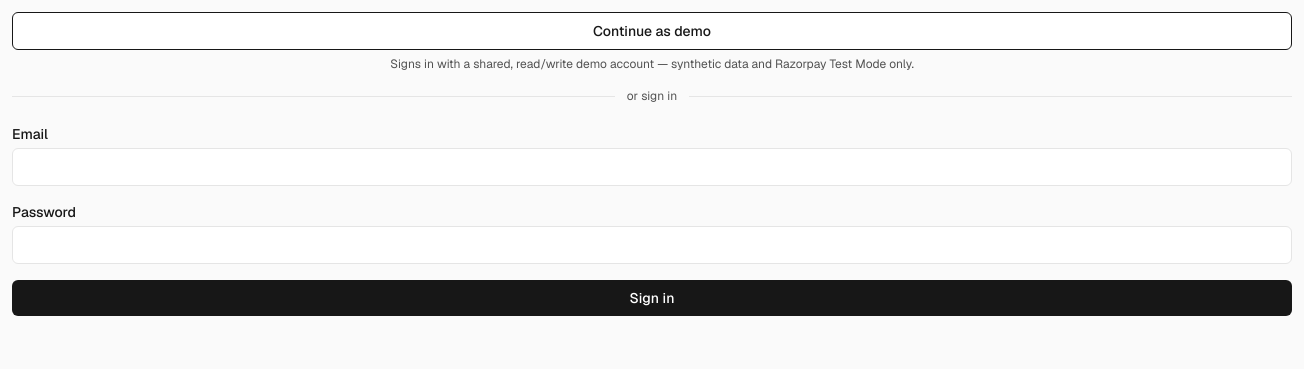
Test case: LoginForm — demo sign-in button › shows a distinct error if the demo account itself is rejected
The width and height of the screenshot is (1304, 369).
Click the button "Continue as demo" at [652, 31], box x1=12 y1=12 x2=1292 y2=50
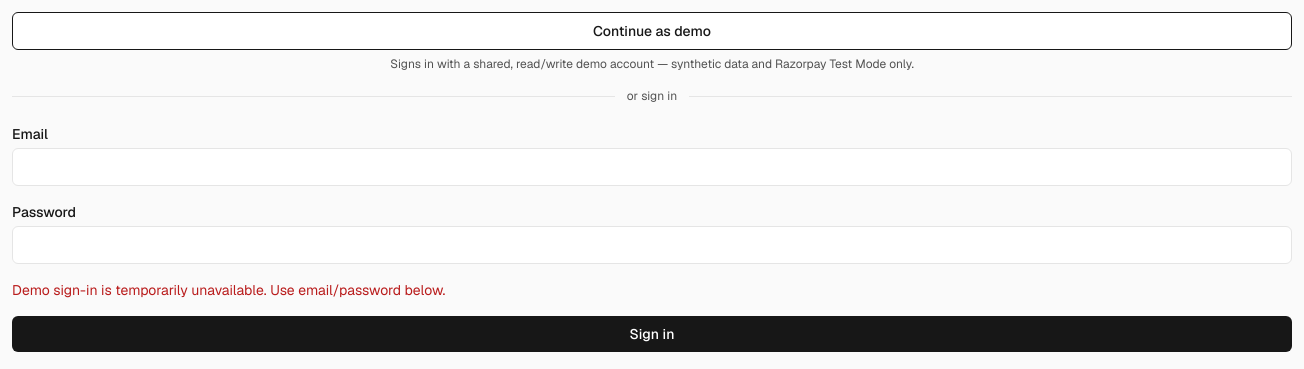
Check: the message reads "Demo sign-in is temporarily unavailable. Use email/password below.", box x1=12 y1=281 x2=445 y2=299
